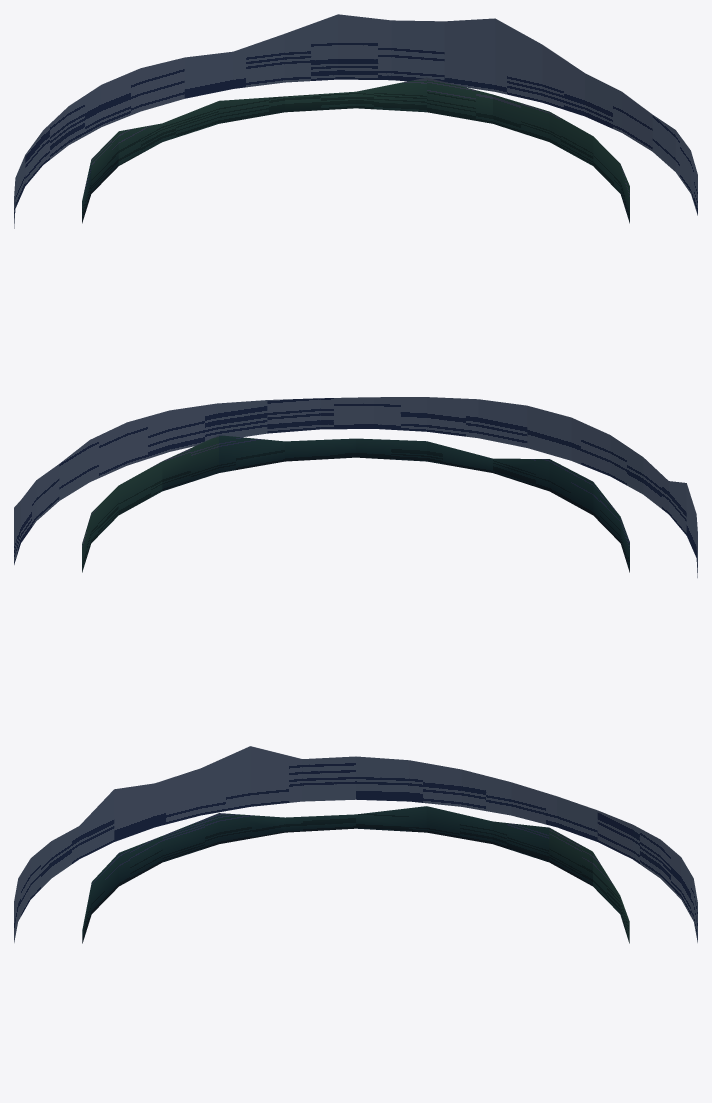
The model's file is mter.backdrop.glb.
3 views of the same model, one above another, from view 1: azimuth 30°, elevation 25°; view 2: azimuth 150°, elevation 25°; view 3: azimuth 270°, elevation 25° (orthographic).
Parts seen in each view (by area): view 1: kit_shell_vista_far, kit_shell_vista; view 2: kit_shell_vista_far, kit_shell_vista; view 3: kit_shell_vista_far, kit_shell_vista.
Boxes of the visible parts, bbox=[...] form: kit_shell_vista_far: bbox=[14, 14, 697, 228]; kit_shell_vista: bbox=[82, 77, 629, 223]; kit_shell_vista_far: bbox=[14, 397, 697, 577]; kit_shell_vista: bbox=[82, 435, 629, 572]; kit_shell_vista_far: bbox=[14, 746, 697, 942]; kit_shell_vista: bbox=[82, 806, 629, 943].
Bounding box in the file's own units: 650 × 76.93 × 650.
Materials: 2 (2 with a texture image).
